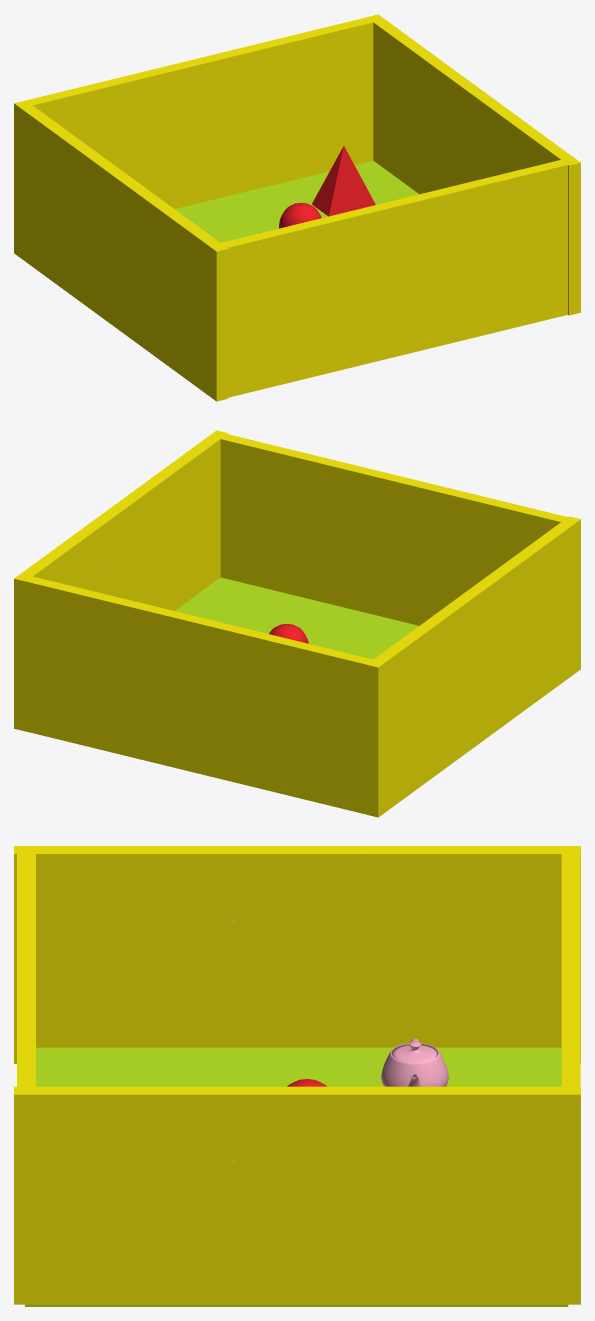
The model's file is stage2s_a.fbx.
3 renders of one model, top to bottom at view 1: azimuth 30°, elevation 25°; view 2: azimuth 150°, elevation 25°; view 3: azimuth 270°, elevation 25°, orthographic. The views are drawn at different scales.
Parts seen in each view (by area): view 1: Box006, Box005, Box007, Box008, Box004, Pyramid001, Capsule001; view 2: Box005, Box006, Box007, Box008, Box004; view 3: Box008, Box007, Box004, Box005, Box006, Teapot001.
Part boxes in pixels (x1,y1,x2,y2): Box006: (219,157,576,397); Box005: (26,15,381,208); Box007: (14,100,228,401); Box008: (367,14,580,315); Box004: (175,160,418,242); Pyramid001: (312,146,375,216); Capsule001: (279,202,321,228); Box005: (18,574,373,814); Box006: (211,432,567,625); Box007: (366,516,580,817); Box008: (14,430,228,731); Box004: (175,577,418,659); Box008: (14,1086,580,1304); Box007: (14,846,580,1063); Box004: (25,1047,568,1306); Box005: (561,853,580,1092); Box006: (17,853,35,1090); Teapot001: (381,1038,448,1086).
Size of the model in its own units: 15392 by 6165 by 14826.
